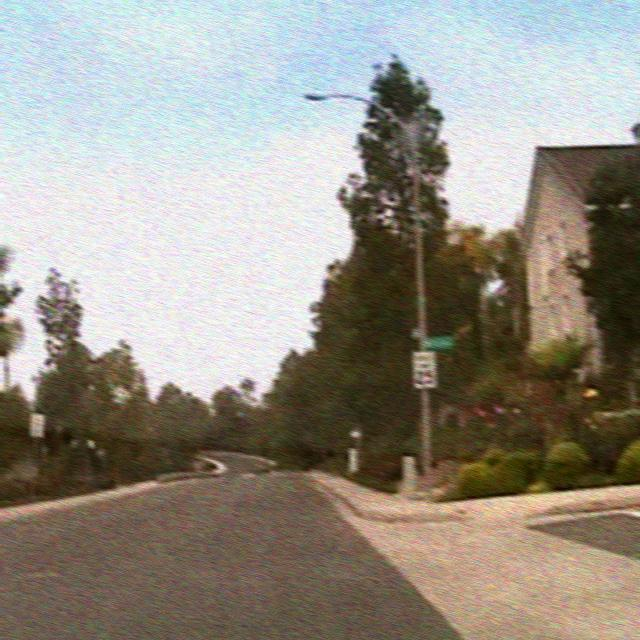speedLimit25: (410, 348, 437, 389)
